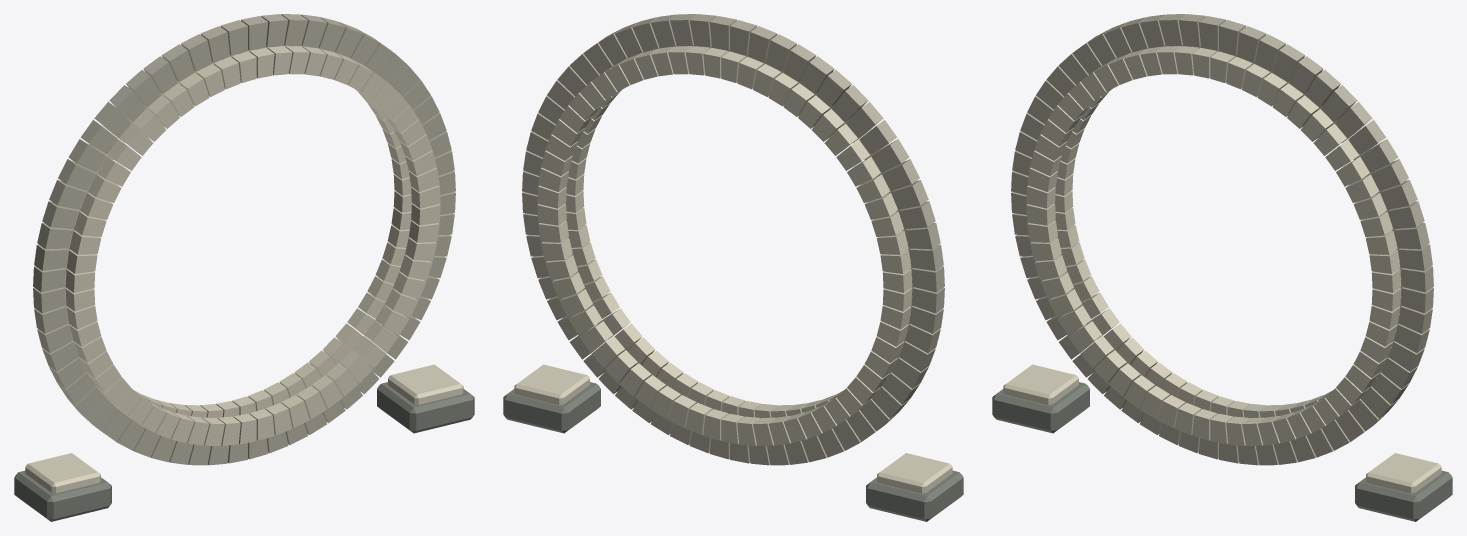
The model's file is quiet_beginning-component.glb.
3 views of the same model, side by side, from view 1: azimuth 30°, elevation 25°; view 2: azimuth 150°, elevation 25°; view 3: azimuth 330°, elevation 25° (orthographic).
Visible parts, largest first — view 1: runtime_Quiet / cut stone, runtime_Quiet / warm limestone, runtime_Quiet / shadow stone; view 2: runtime_Quiet / cut stone, runtime_Quiet / warm limestone, runtime_Quiet / shadow stone; view 3: runtime_Quiet / cut stone, runtime_Quiet / warm limestone, runtime_Quiet / shadow stone.
Boxes of the visible parts, x1=… form: runtime_Quiet / cut stone: x1=25, y1=45, x2=463, y2=493; runtime_Quiet / warm limestone: x1=33, y1=14, x2=455, y2=465; runtime_Quiet / shadow stone: x1=14, y1=382, x2=474, y2=521; runtime_Quiet / cut stone: x1=514, y1=45, x2=952, y2=493; runtime_Quiet / warm limestone: x1=522, y1=14, x2=944, y2=465; runtime_Quiet / shadow stone: x1=503, y1=382, x2=963, y2=521; runtime_Quiet / cut stone: x1=1003, y1=45, x2=1441, y2=493; runtime_Quiet / warm limestone: x1=1011, y1=14, x2=1433, y2=465; runtime_Quiet / shadow stone: x1=992, y1=382, x2=1452, y2=521.
Size of the model in its own units: 6.25 by 6.09 by 0.95.
